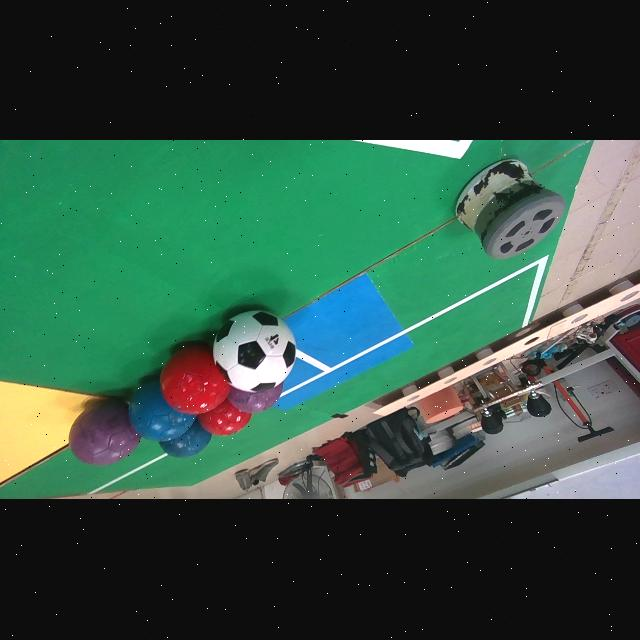B: (129, 380, 196, 442), (160, 421, 212, 459)
P: (69, 400, 141, 467), (227, 384, 283, 413)
R: (159, 345, 229, 416), (198, 400, 250, 437)
